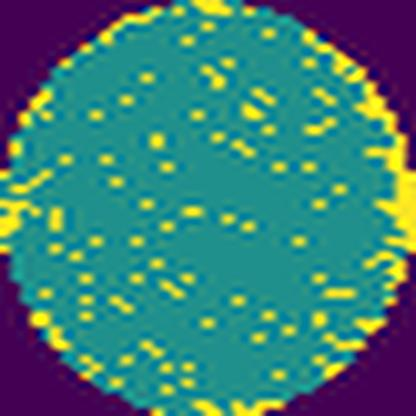Edge-Loc: (299, 29, 416, 254), (0, 193, 41, 243)
